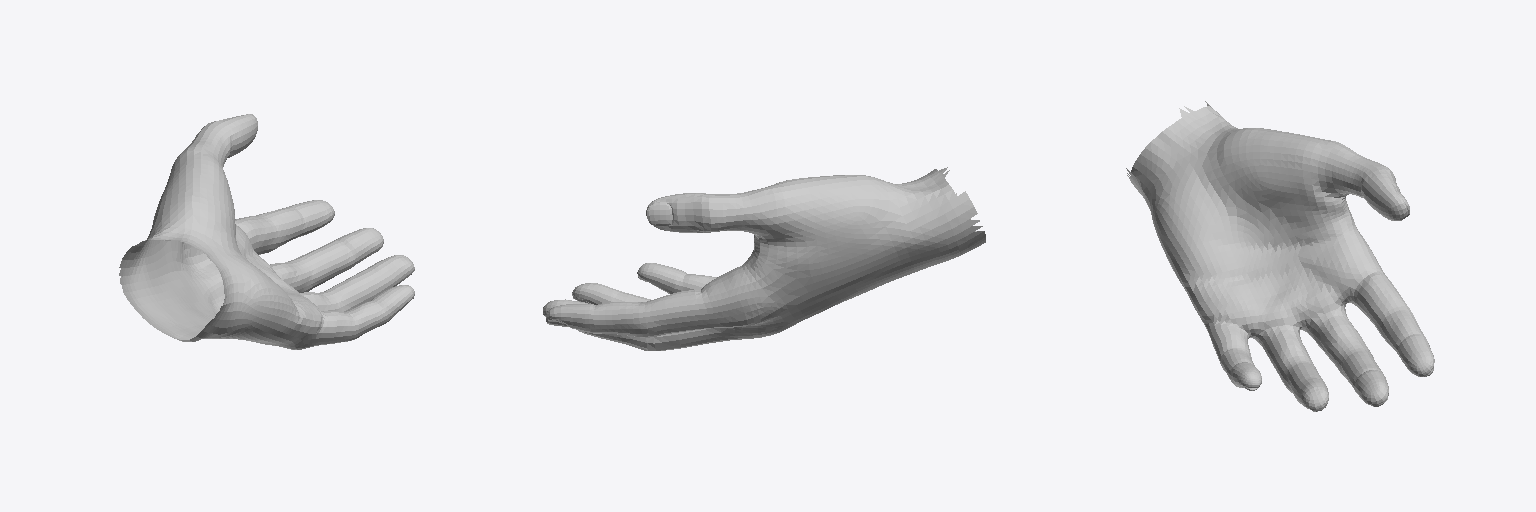
File: hand_l.OBJ
3 views of the same model, side by side, from view 1: azimuth 30°, elevation 25°; view 2: azimuth 150°, elevation 25°; view 3: azimuth 270°, elevation 25° (orthographic).
Visible parts, largest first — view 1: hand_l_UV1; view 2: hand_l_UV1; view 3: hand_l_UV1.
Boxes of the visible parts, box(x1,y1,x2,y2) form: hand_l_UV1: box(119, 114, 414, 349); hand_l_UV1: box(543, 167, 985, 350); hand_l_UV1: box(1126, 101, 1434, 411).
Size of the model in its own units: 0.1537 by 0.0803 by 0.1172.